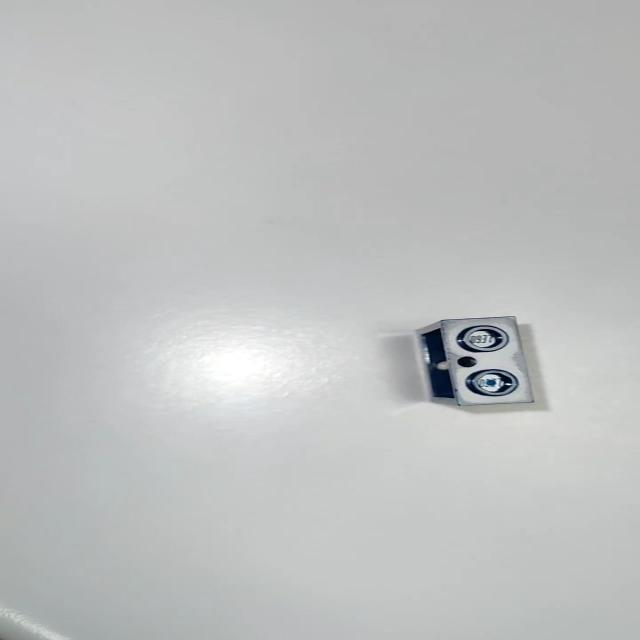W2x1x2: (406, 314, 540, 408)
